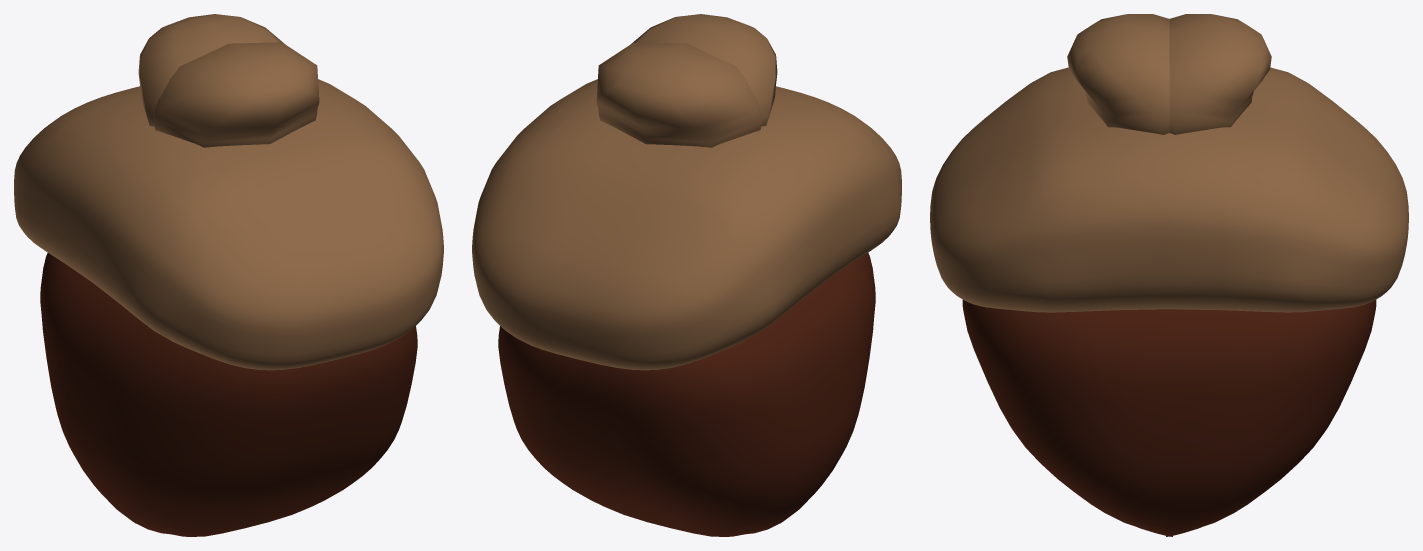
Rendered from acorn.fbx.
3 views of the same model, side by side, from view 1: azimuth 30°, elevation 25°; view 2: azimuth 150°, elevation 25°; view 3: azimuth 270°, elevation 25° (orthographic).
Parts seen in each view (by area): view 1: Roundcube.002; view 2: Roundcube.002; view 3: Roundcube.002.
Boxes of the visible parts, <box> form: Roundcube.002: <box>14,14,443,536</box>; Roundcube.002: <box>472,14,901,536</box>; Roundcube.002: <box>930,14,1408,536</box>.
Bounding box in the file's own units: 233 × 354 × 317.
